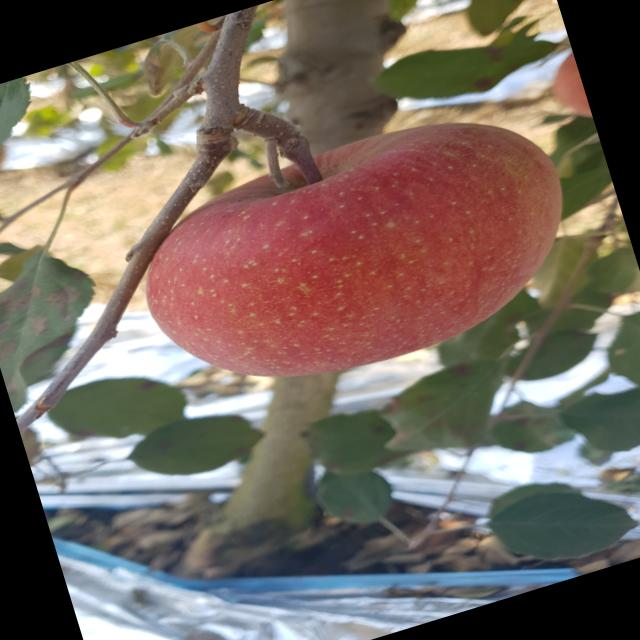fresh: (115, 78, 606, 428)
